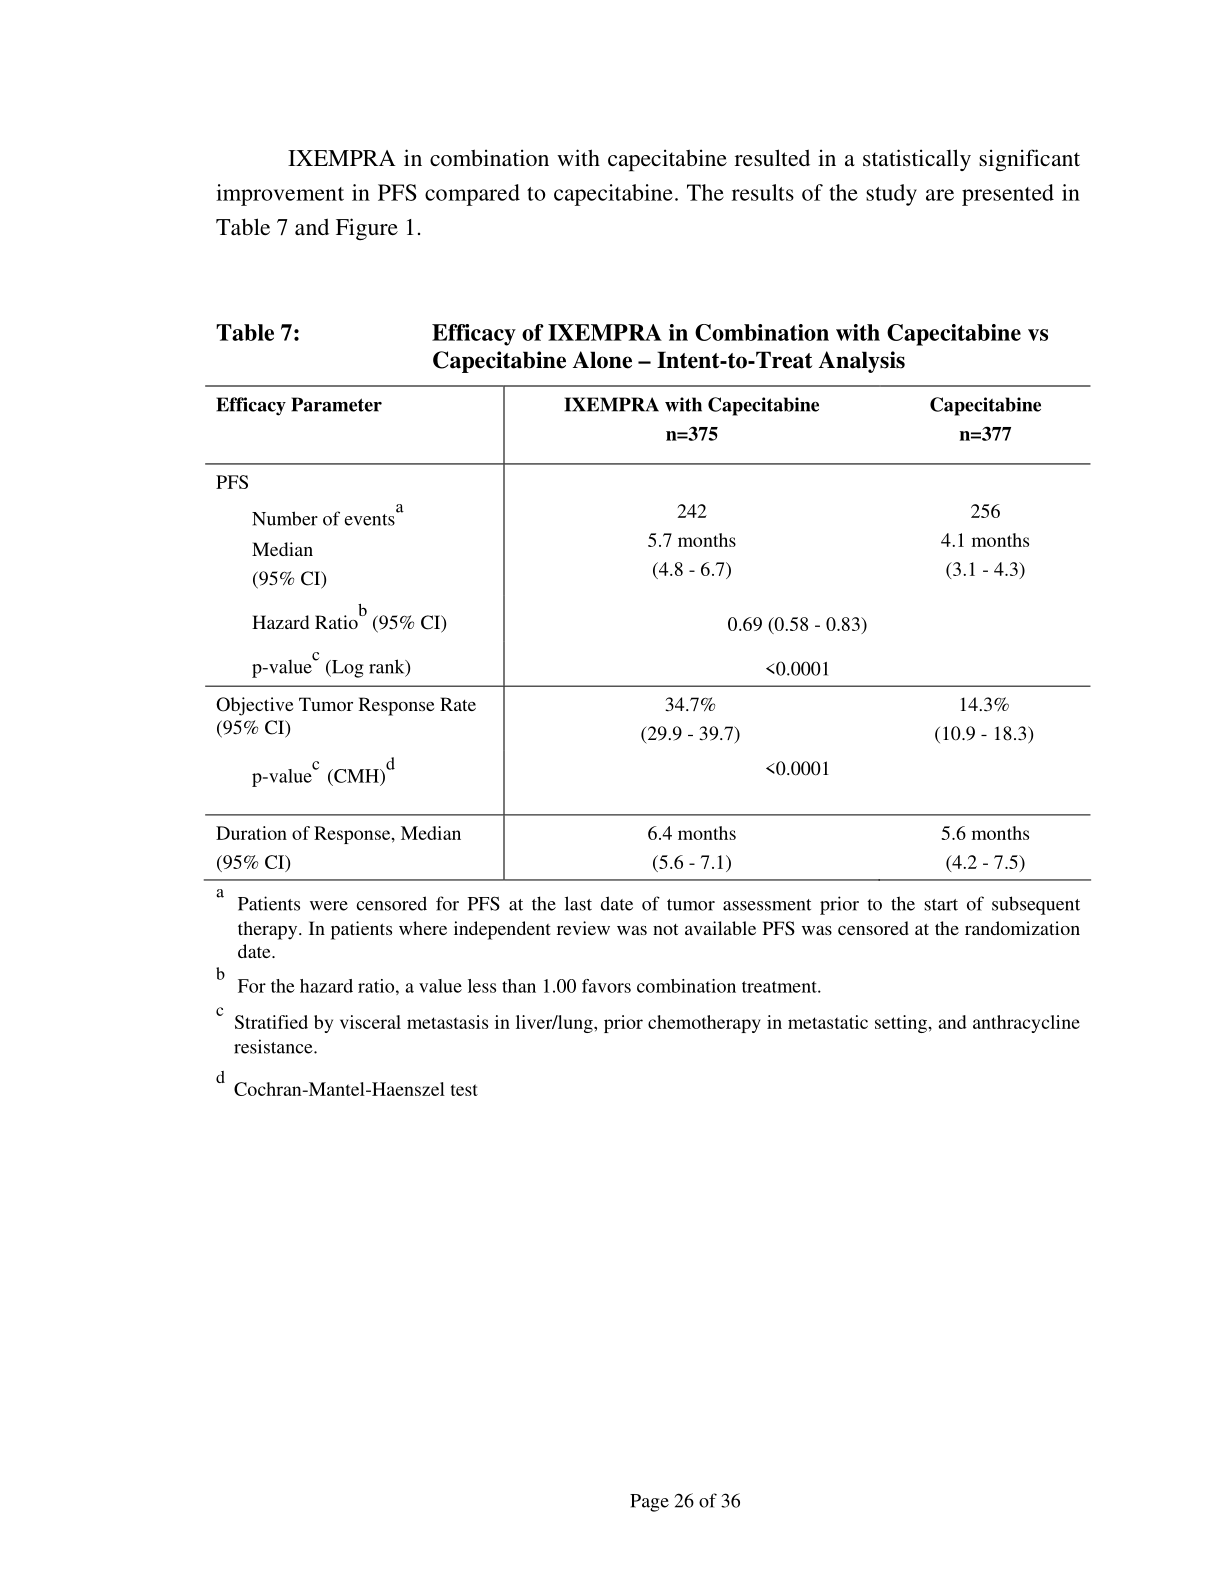partial_lined_merged_cells: (202, 383, 1095, 882)
